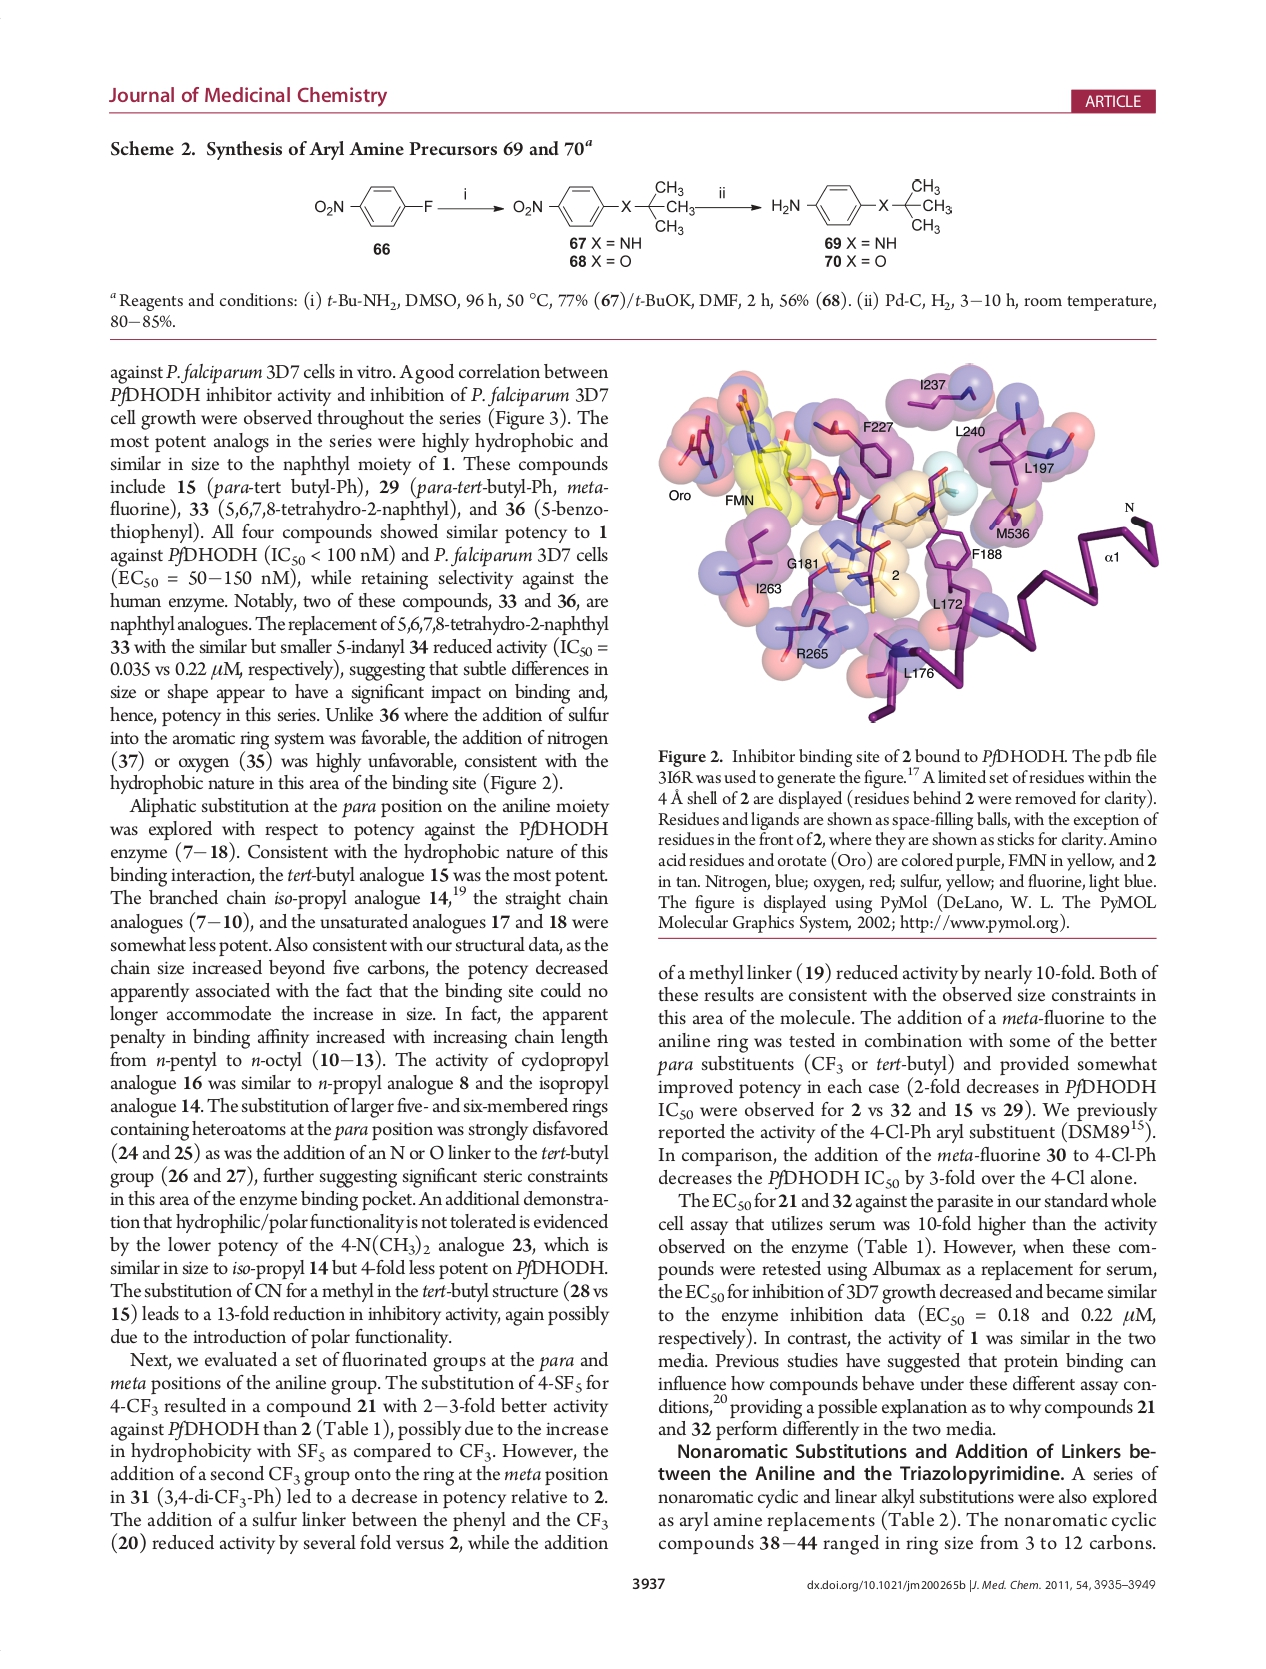exist_molecular: (769, 172, 953, 235), (509, 176, 697, 238), (309, 178, 438, 233)
